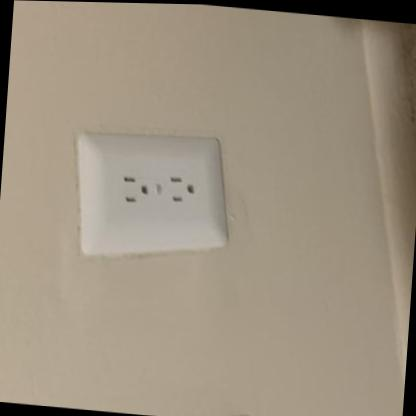OUTLET: (69, 125, 235, 259)
